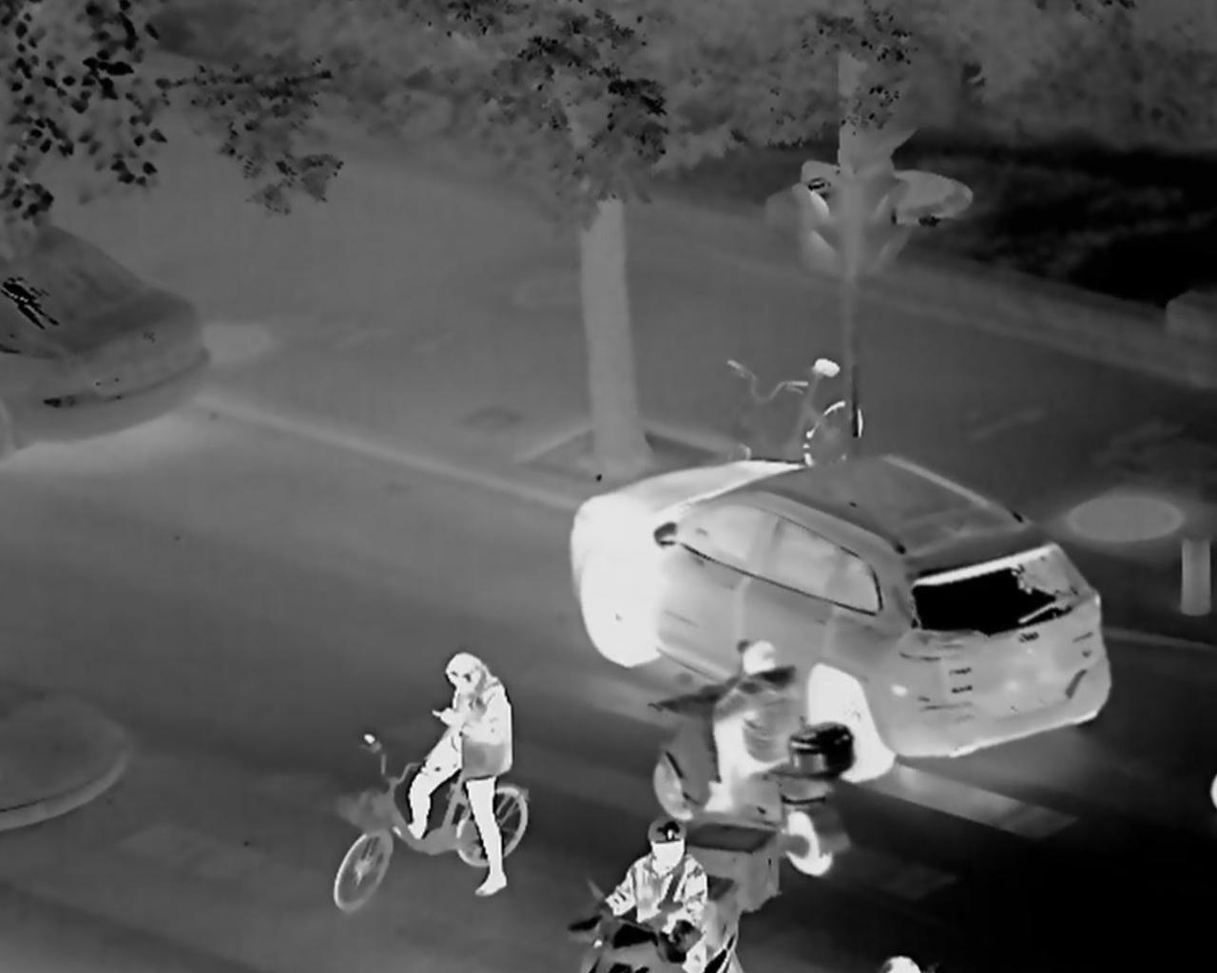person: (396, 654, 515, 895), (581, 817, 705, 973), (691, 641, 798, 821)
